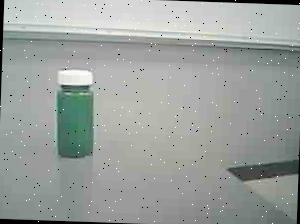Bottle C: (42, 61, 108, 167)
